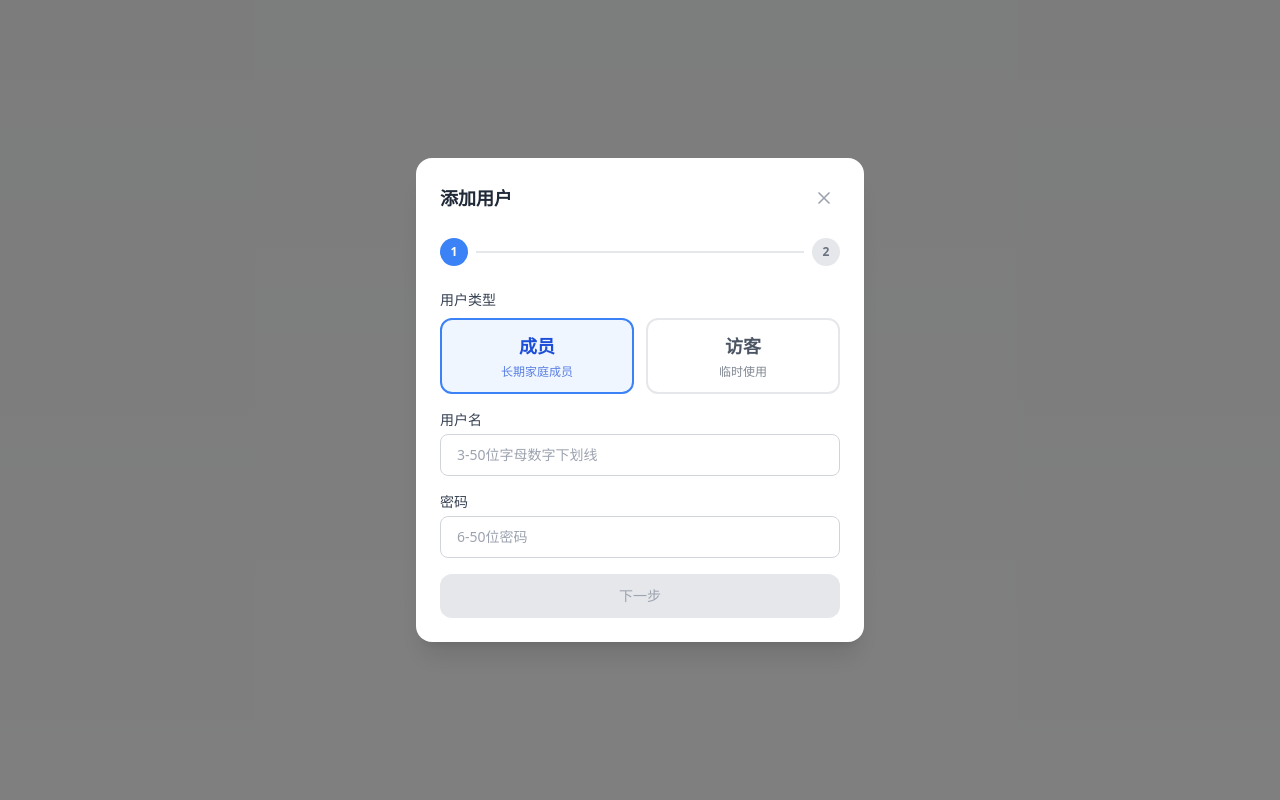
Test: CreateMemberWizard (T049) › Step2 声纹录音界面 › Step2 应显示"上一步"和"提交创建"按钮
Type "testuser" into the field with placeholder "3-50位字母数字下划线" at {"x": 640, "y": 455}, box [440,434,840,476]
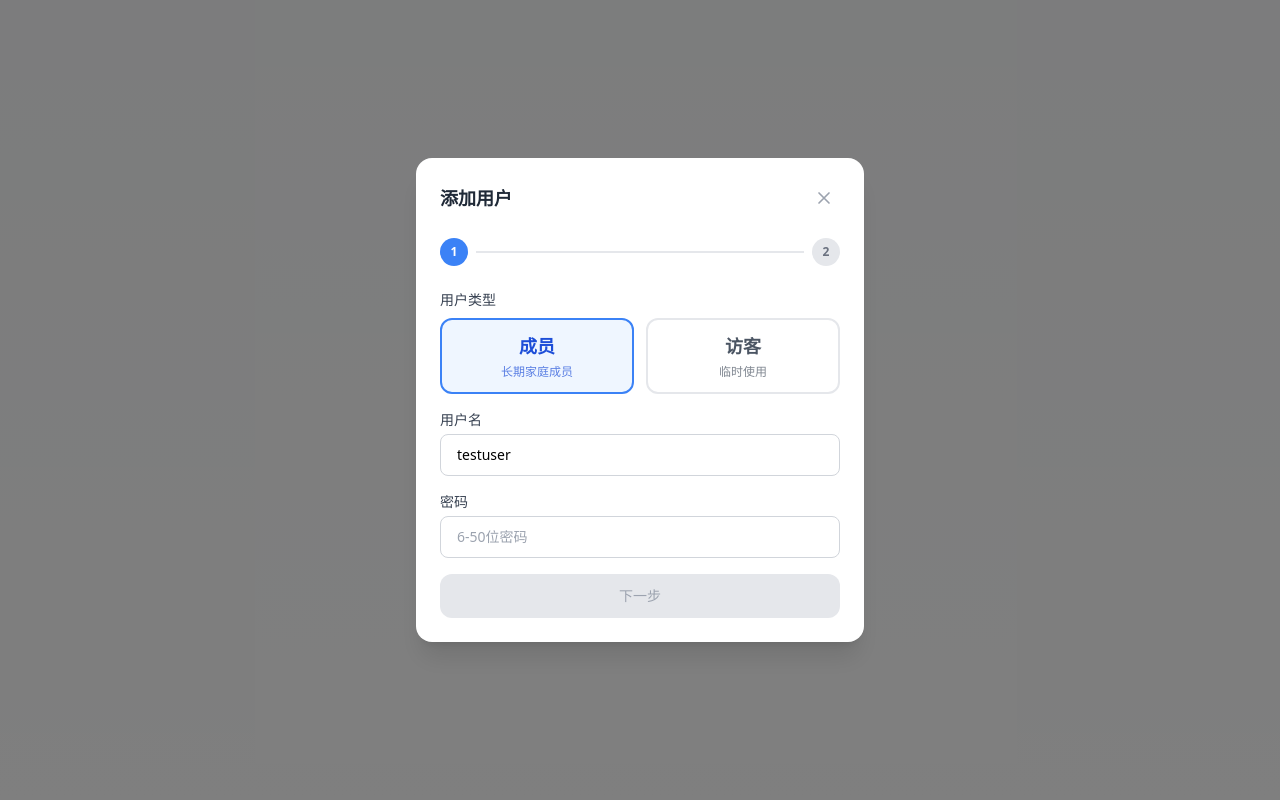
Type "password123" into the password field with placeholder "6-50位密码" at {"x": 640, "y": 537}, box [440,516,840,558]
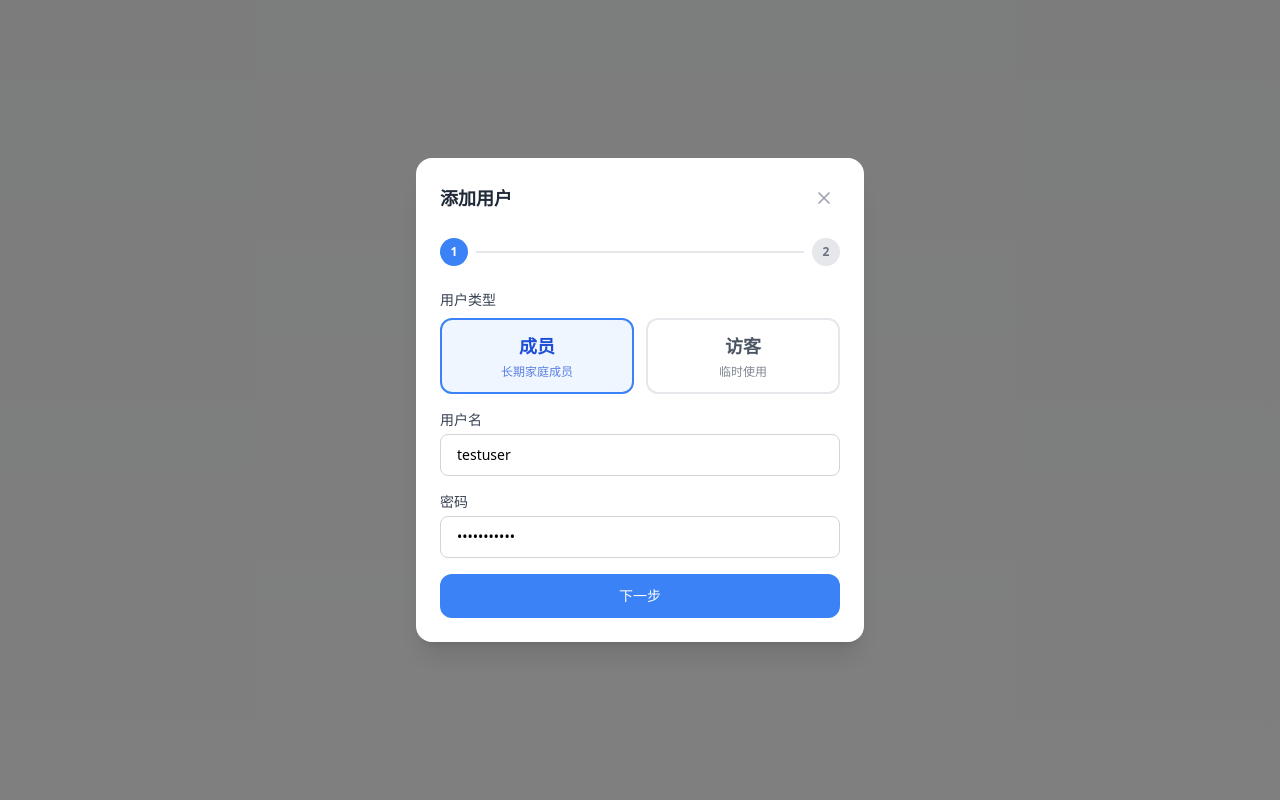
Click the button "下一步" at {"x": 640, "y": 596}, box [440,574,840,618]
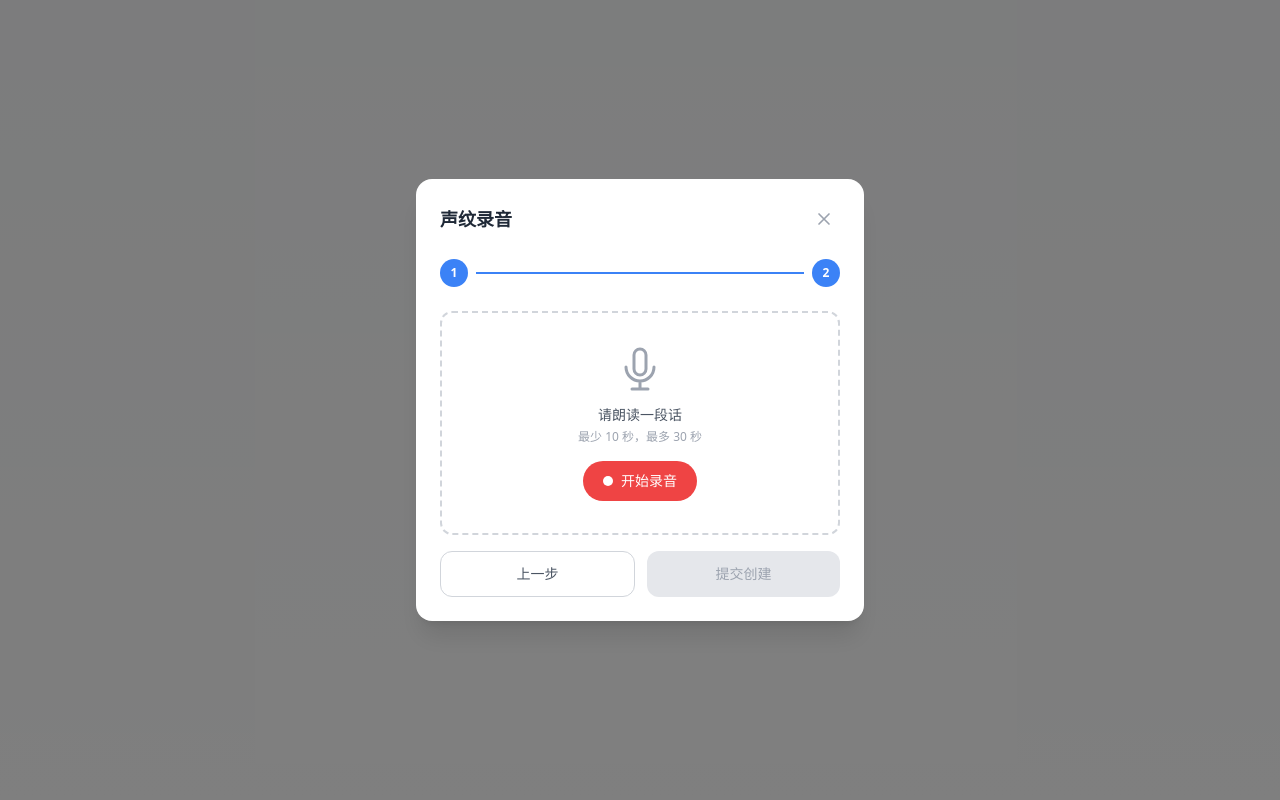
Check: the button "上一步" is shown, box [440,551,635,597]
Check: the button "提交创建" is shown, box [647,551,840,597]
